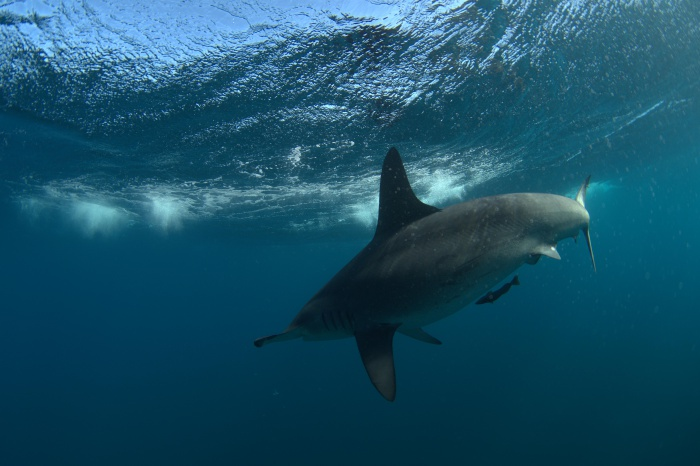Hammer: (233, 124, 617, 408)
